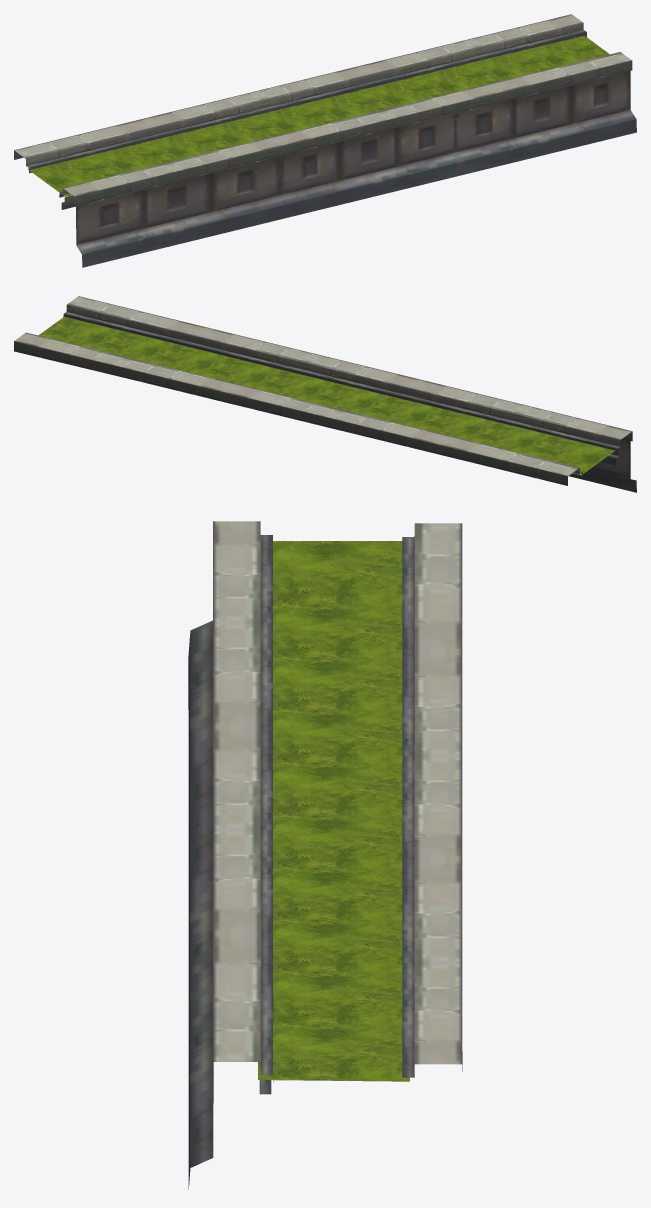
File: S_Build_City079.FBX
The picture shows the model from 3 angles, top to bottom: view 1: azimuth 30°, elevation 25°; view 2: azimuth 150°, elevation 25°; view 3: azimuth 270°, elevation 25°; orthographic projection. The views are drawn at different scales.
Visible parts, largest first — view 1: S_Build_City079; view 2: S_Build_City079; view 3: S_Build_City079.
Boxes of the visible parts, <box> form: S_Build_City079: <box>14,14,636,267</box>; S_Build_City079: <box>14,296,636,492</box>; S_Build_City079: <box>188,521,462,1189</box>.
Bounding box in the file's own units: 2118 × 242 × 452.
